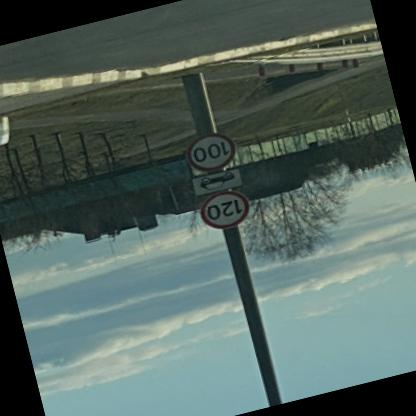speedlimit: (198, 186, 257, 235), (186, 129, 244, 177)
